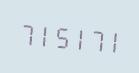five: (52, 18, 68, 52)
one: (103, 22, 119, 57), (34, 17, 50, 51), (69, 20, 85, 54)
seven: (17, 15, 33, 49), (86, 21, 102, 55)
